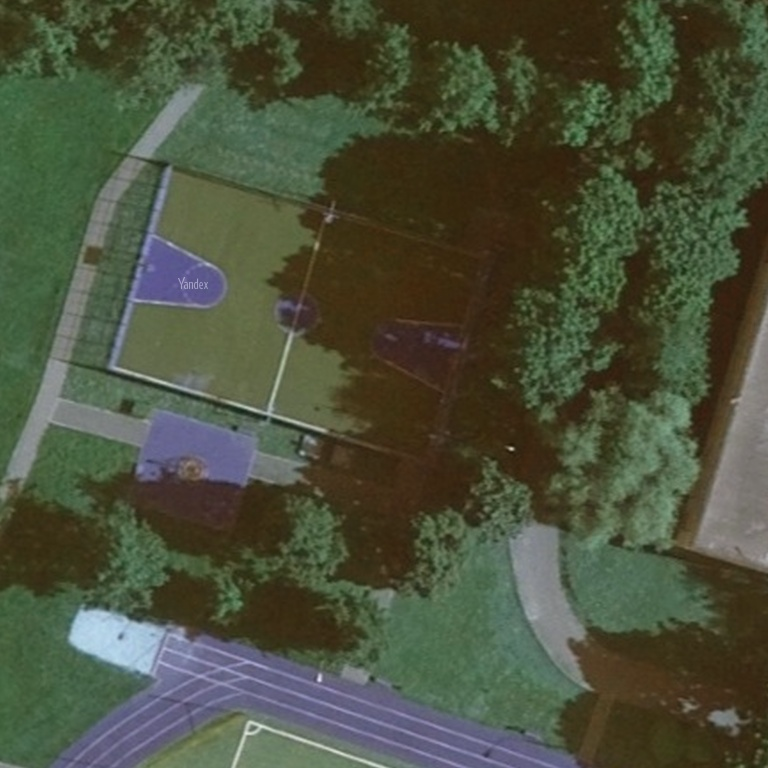basket_court: (93, 157, 514, 478)
